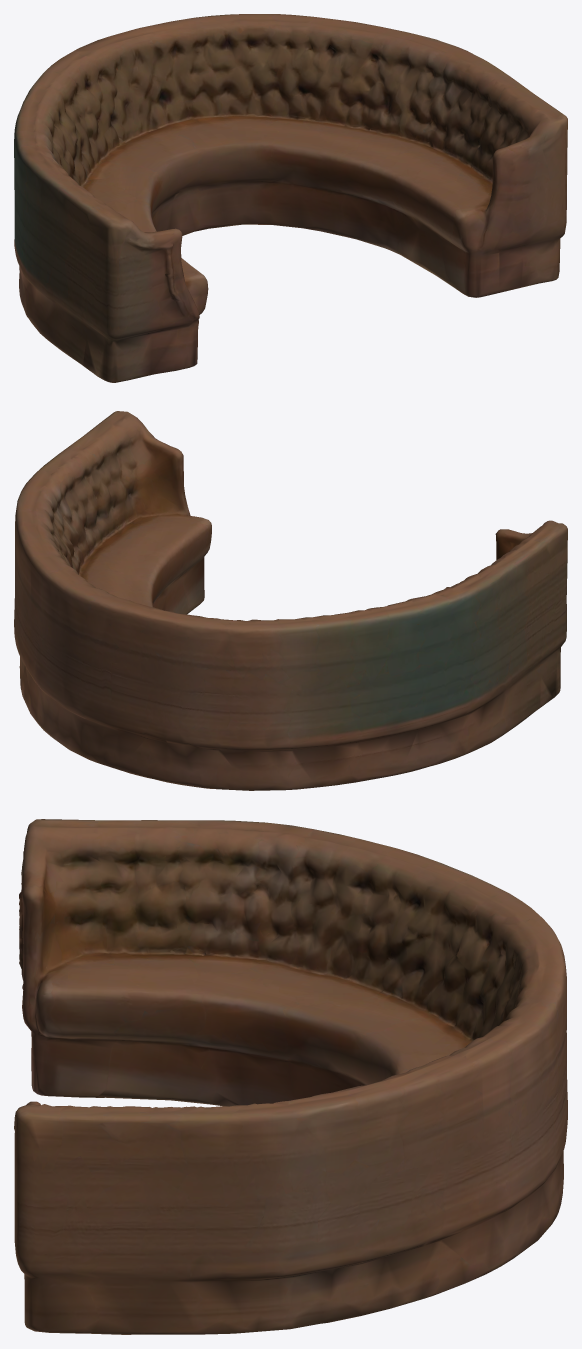
File: cigar-banquette-emerald.glb
The picture shows the model from 3 angles, top to bottom: view 1: azimuth 30°, elevation 25°; view 2: azimuth 150°, elevation 25°; view 3: azimuth 270°, elevation 25°; orthographic projection. The views are drawn at different scales.
Size of the model in its own units: 2 by 0.6911 by 1.56.
1 material, 1 textured.
